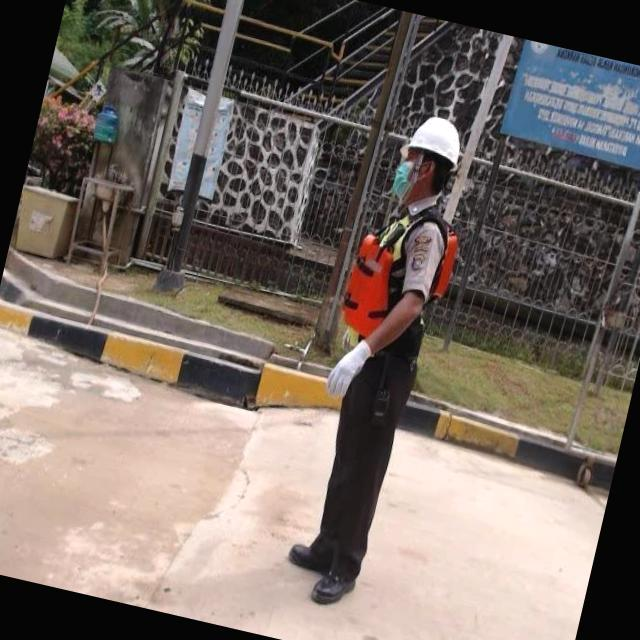vest: (328, 195, 459, 364)
